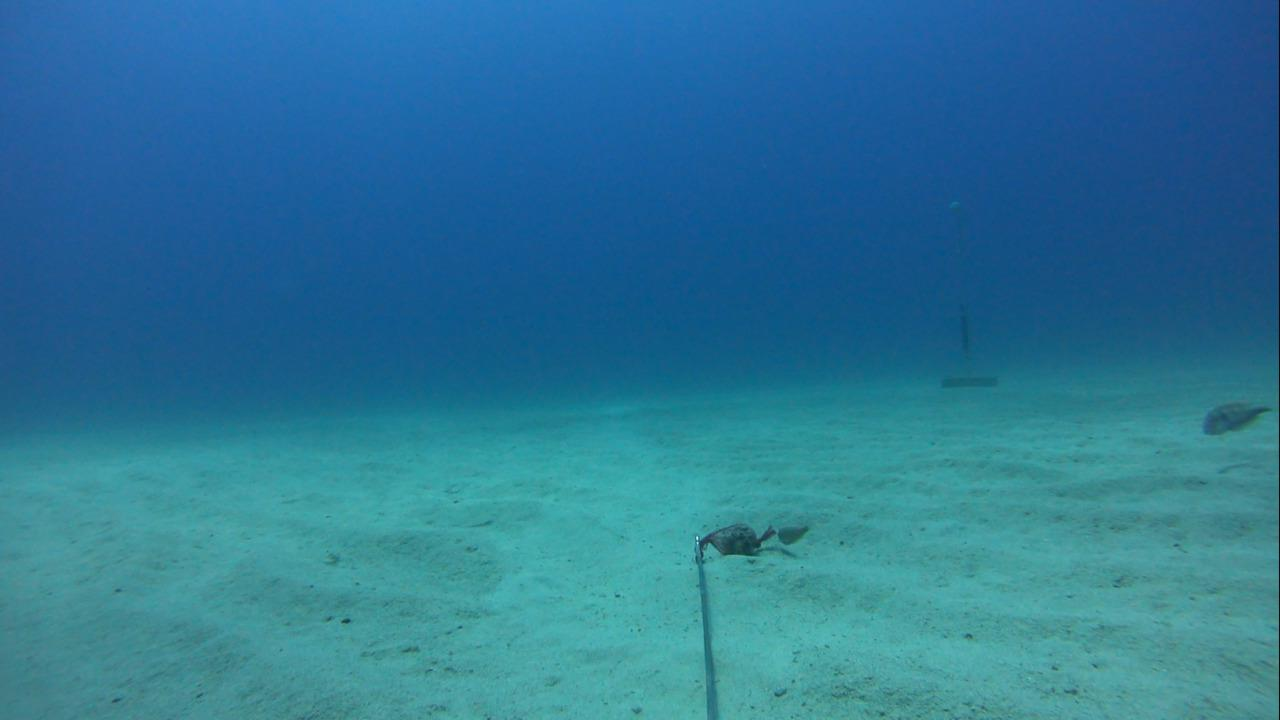raor: (1189, 393, 1273, 445), (769, 516, 823, 554)
